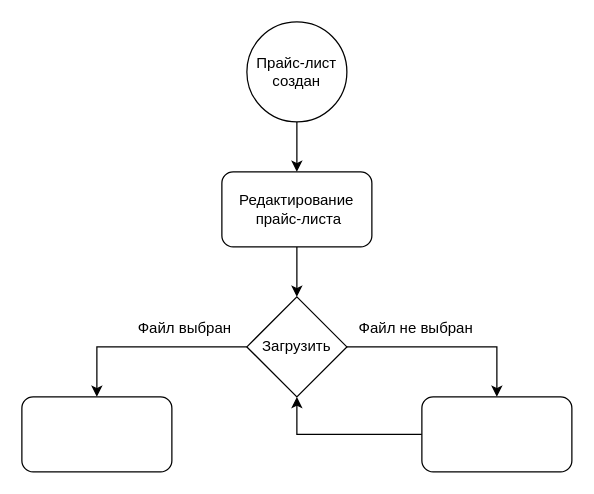
This 594x494 diagram has some shape labels left out. The centre of each missing label's shape, as x and y in pixels:
"Предупреждение Файл не найден." goes at point (496, 434).
"Соответствие колонок" goes at point (96, 434).
